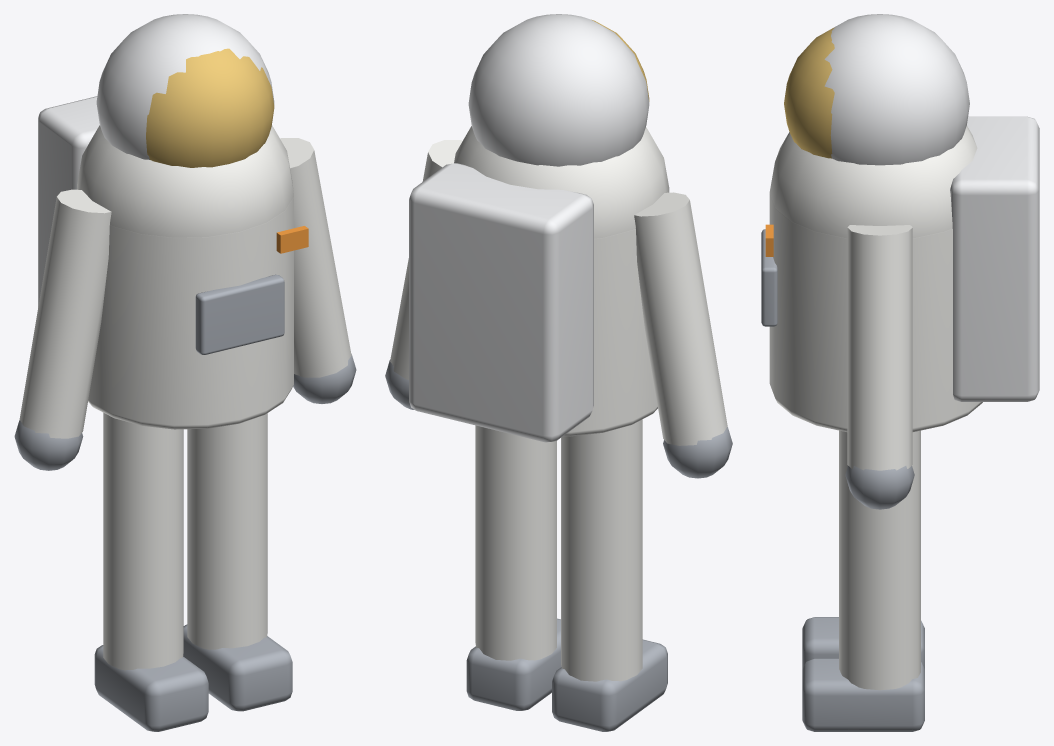
File: astronauta.glb
3 views of the same model, side by side, from view 1: azimuth 30°, elevation 25°; view 2: azimuth 150°, elevation 25°; view 3: azimuth 270°, elevation 25° (orthographic).
Visible parts, largest first — view 1: torso, Cylinder, Cylinder.001, Sphere, Cylinder.002, visor, casco, Cylinder.003, Cube, Cube.001, panel_pecho, mochila (+3 smaller); view 2: mochila, casco, Cylinder, Cylinder.001, Cylinder.002, torso, Sphere, Cube, Cube.001, Cylinder.003, Sphere.001, Sphere.002; view 3: mochila, torso, casco, Cylinder.001, Cylinder.003, Sphere, Cube.001, visor, Sphere.002, Cube, panel_pecho.
Boxes of the visible parts, box(x1,y1,x2,y2) form: torso: box(77, 188, 293, 429); Cylinder: box(103, 413, 183, 670); Cylinder.001: box(187, 413, 267, 649); Sphere: box(77, 125, 293, 237); Cylinder.002: box(19, 189, 111, 438); visor: box(146, 48, 274, 167); casco: box(96, 14, 274, 159); Cylinder.003: box(280, 138, 351, 377); Cube: box(94, 645, 208, 731); Cube.001: box(183, 624, 292, 711); panel_pecho: box(195, 274, 284, 354); mochila: box(38, 96, 99, 307); mochila: box(409, 163, 593, 442); casco: box(468, 14, 649, 166); Cylinder: box(561, 419, 642, 681); Cylinder.001: box(475, 425, 556, 660); Cylinder.002: box(634, 192, 727, 445); torso: box(563, 191, 669, 436); Sphere: box(454, 126, 669, 238); Cube: box(552, 639, 667, 731); Cube.001: box(466, 618, 561, 710); Cylinder.003: box(390, 140, 462, 379); Sphere.001: box(663, 427, 732, 478); Sphere.002: box(385, 360, 414, 409); mochila: box(950, 116, 1039, 401); torso: box(769, 194, 982, 431); casco: box(824, 14, 969, 165); Cylinder.001: box(839, 430, 920, 690); Cylinder.003: box(847, 225, 912, 470); Sphere: box(769, 125, 977, 238); Cube.001: box(802, 658, 924, 731); visor: box(784, 27, 834, 158); Sphere.002: box(845, 466, 914, 509); Cube: box(802, 617, 924, 669); panel_pecho: box(761, 229, 777, 326).
Bounding box in the file's own units: 0.95 × 1.83 × 0.68.
